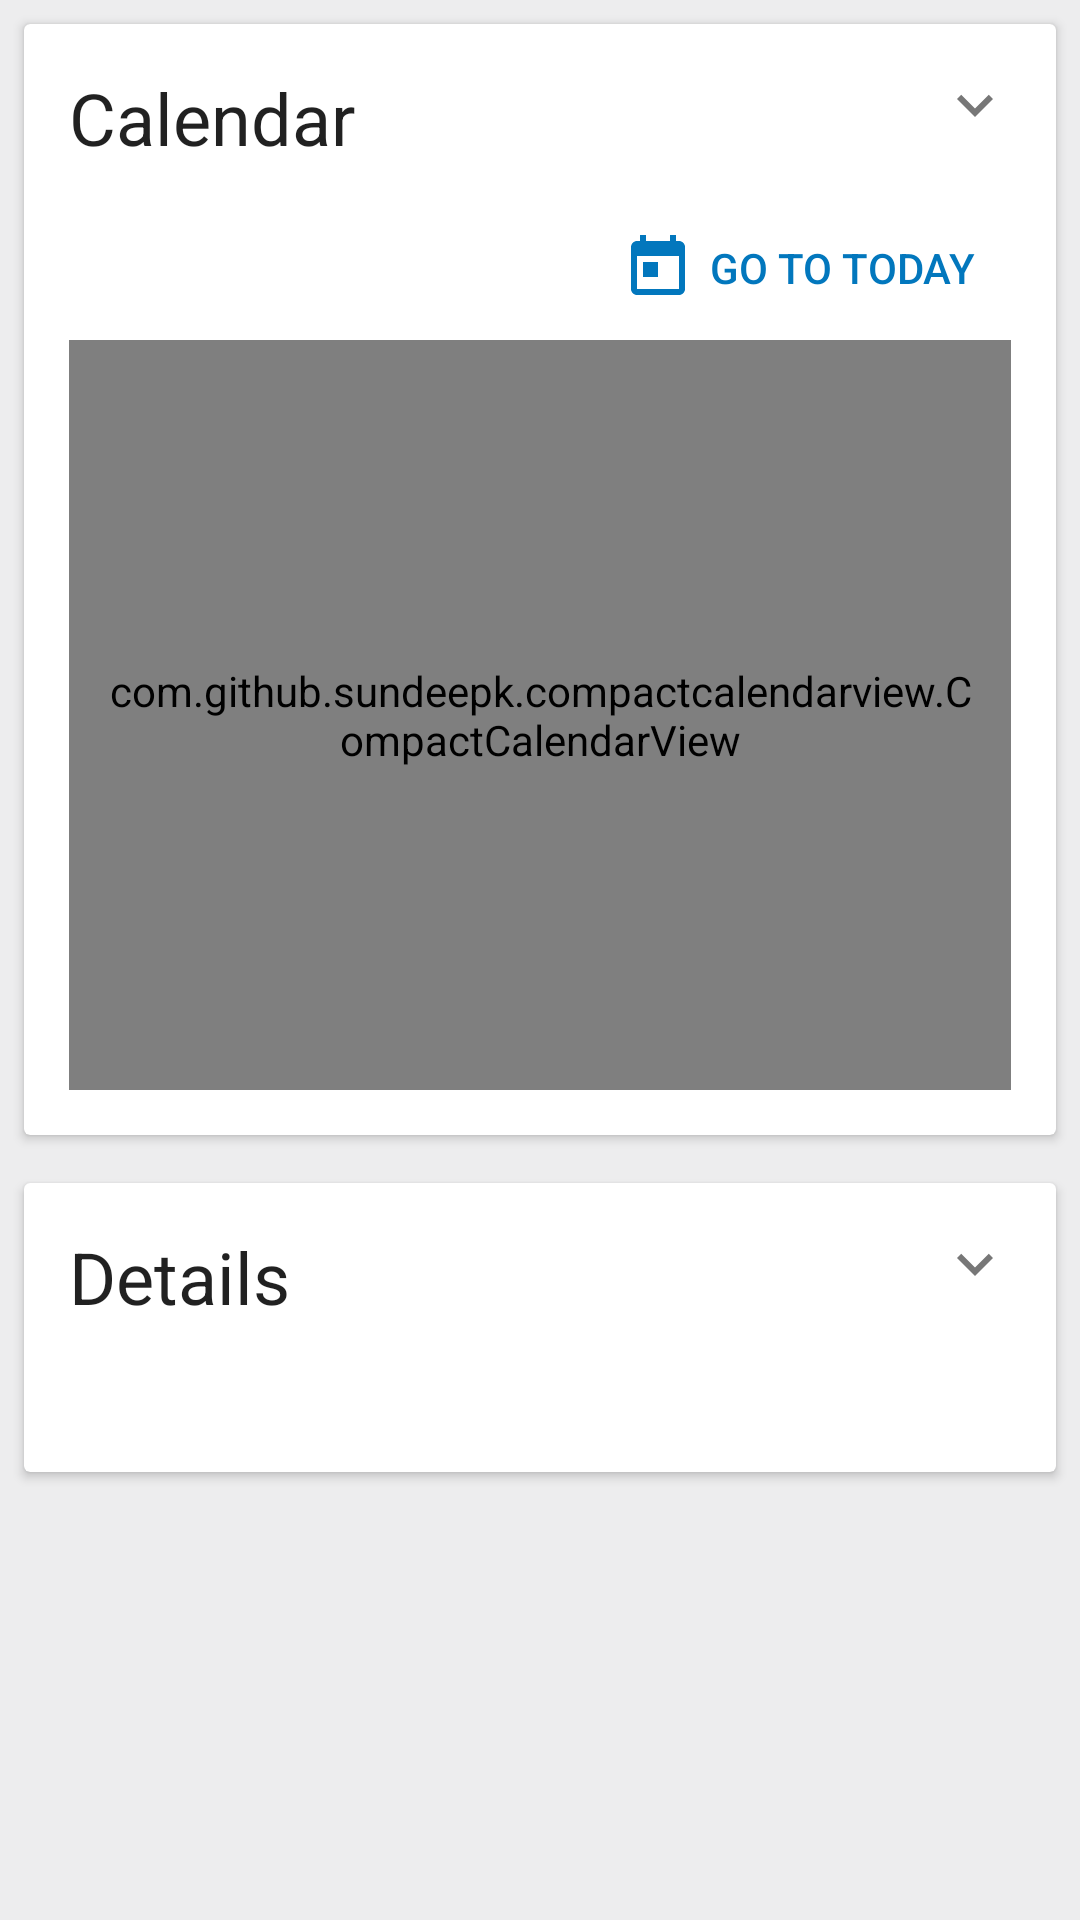

Icons on this 1080w x 1920h Android screen, each with its box as [x1=x1, y1=y1, x2=x2, y2=y2]:
expand: [x1=957, y1=95, x2=993, y2=117], [x1=957, y1=1254, x2=993, y2=1276]
